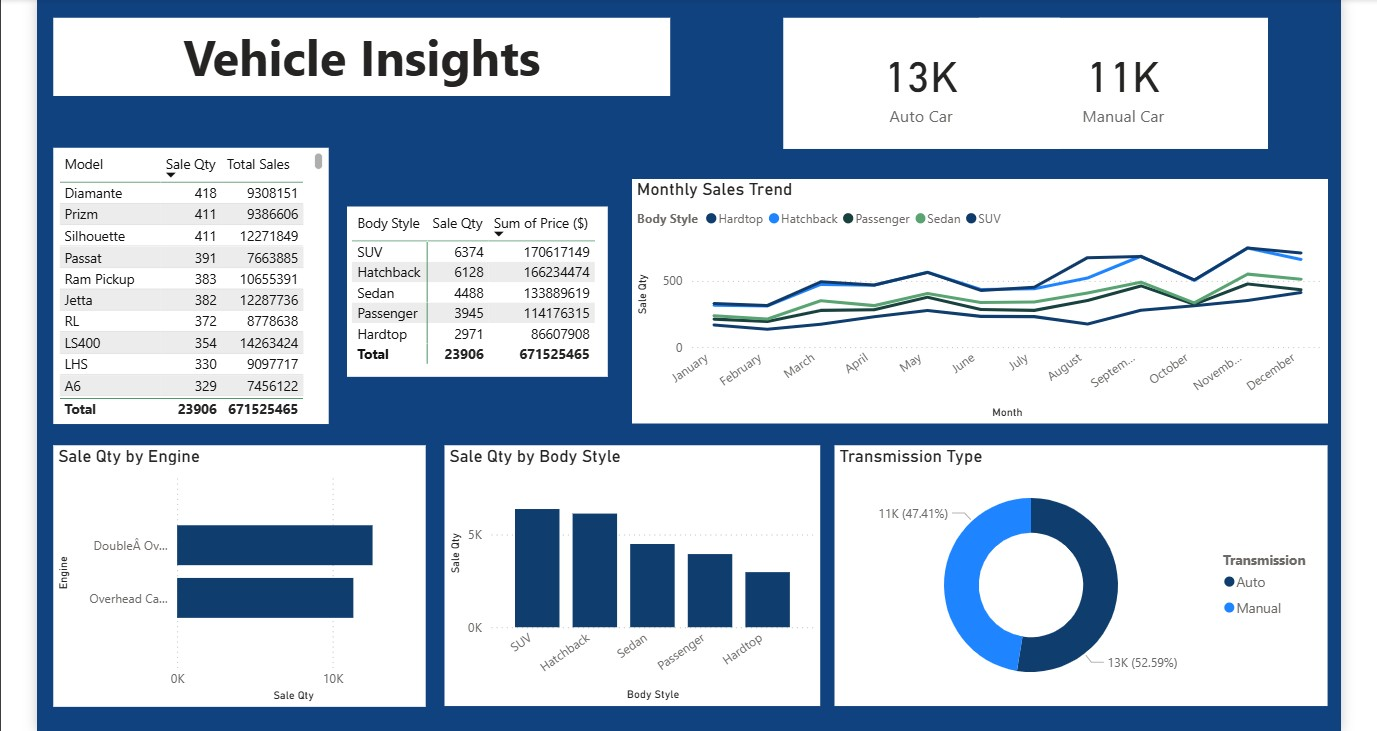

This screenshot's page, from the dashboard's own definition file:
{"tool":"powerbi","page":{"name":"Vehicle Insights","canvas":[1280,720],"ordinal":4},"visuals":[{"type":"textbox","box":[15.7,18.6,605.7,77.1],"z":0},{"type":"tableEx","fields":{"Values":["car sales.Model","car sales.Sale Qty","car sales.Total Sales"]},"box":[15.7,145.7,270,271.4],"z":1000},{"type":"pivotTable","fields":{"Rows":["car sales.Body Style"],"Values":["car sales.Sale Qty","Sum(car sales.Price ($))"]},"box":[304.3,204.3,255.7,167.1],"z":2000},{"type":"card","fields":{"Values":["car sales.Auto Car"]},"box":[732.9,18.6,271.4,128.6],"z":3000},{"type":"card","fields":{"Values":["car sales.Manual Car"]},"box":[925.7,18.6,282.9,128.6],"z":4000},{"type":"donutChart","title":"Transmission Type","fields":{"Category":["car sales.Transmission"],"Y":["car sales.Sale Qty"]},"box":[782.9,438.6,484.3,255.7],"z":5000},{"type":"clusteredBarChart","fields":{"Category":["car sales.Engine"],"Y":["car sales.Sale Qty"]},"box":[15.7,438.6,365.7,257.1],"z":6000},{"type":"columnChart","fields":{"Category":["car sales.Body Style"],"Y":["car sales.Sale Qty"]},"box":[400,438.6,368.6,255.7],"z":7000},{"type":"lineChart","title":"Monthly Sales Trend","fields":{"Category":["car sales.Date.Variation.Date Hierarchy.Month"],"Y":["car sales.Sale Qty"],"Series":["car sales.Body Style"]},"box":[584.3,177.1,682.9,240],"z":8000}]}

Visuals, with their boxes in screenshot pixels (x1, y1, x2, y2):
textbox: bbox(34, 9, 663, 89)
tableEx - car sales.Model x car sales.Sale Qty: bbox(34, 141, 315, 423)
pivotTable - car sales.Body Style x car sales.Sale Qty: bbox(334, 201, 600, 375)
card - car sales.Auto Car: bbox(779, 9, 1061, 142)
card - car sales.Manual Car: bbox(980, 9, 1273, 142)
"Transmission Type" donutChart: bbox(831, 445, 1334, 710)
clusteredBarChart - car sales.Engine x car sales.Sale Qty: bbox(34, 445, 414, 712)
columnChart - car sales.Body Style x car sales.Sale Qty: bbox(433, 445, 816, 710)
"Monthly Sales Trend" lineChart: bbox(625, 173, 1334, 423)
